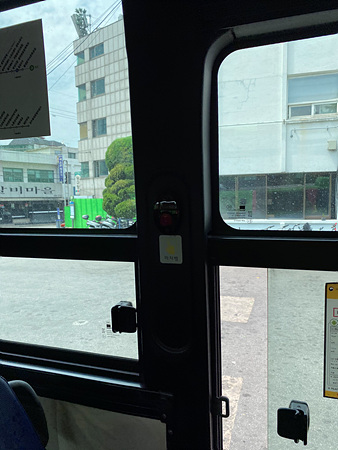bell: (150, 199, 188, 237)
